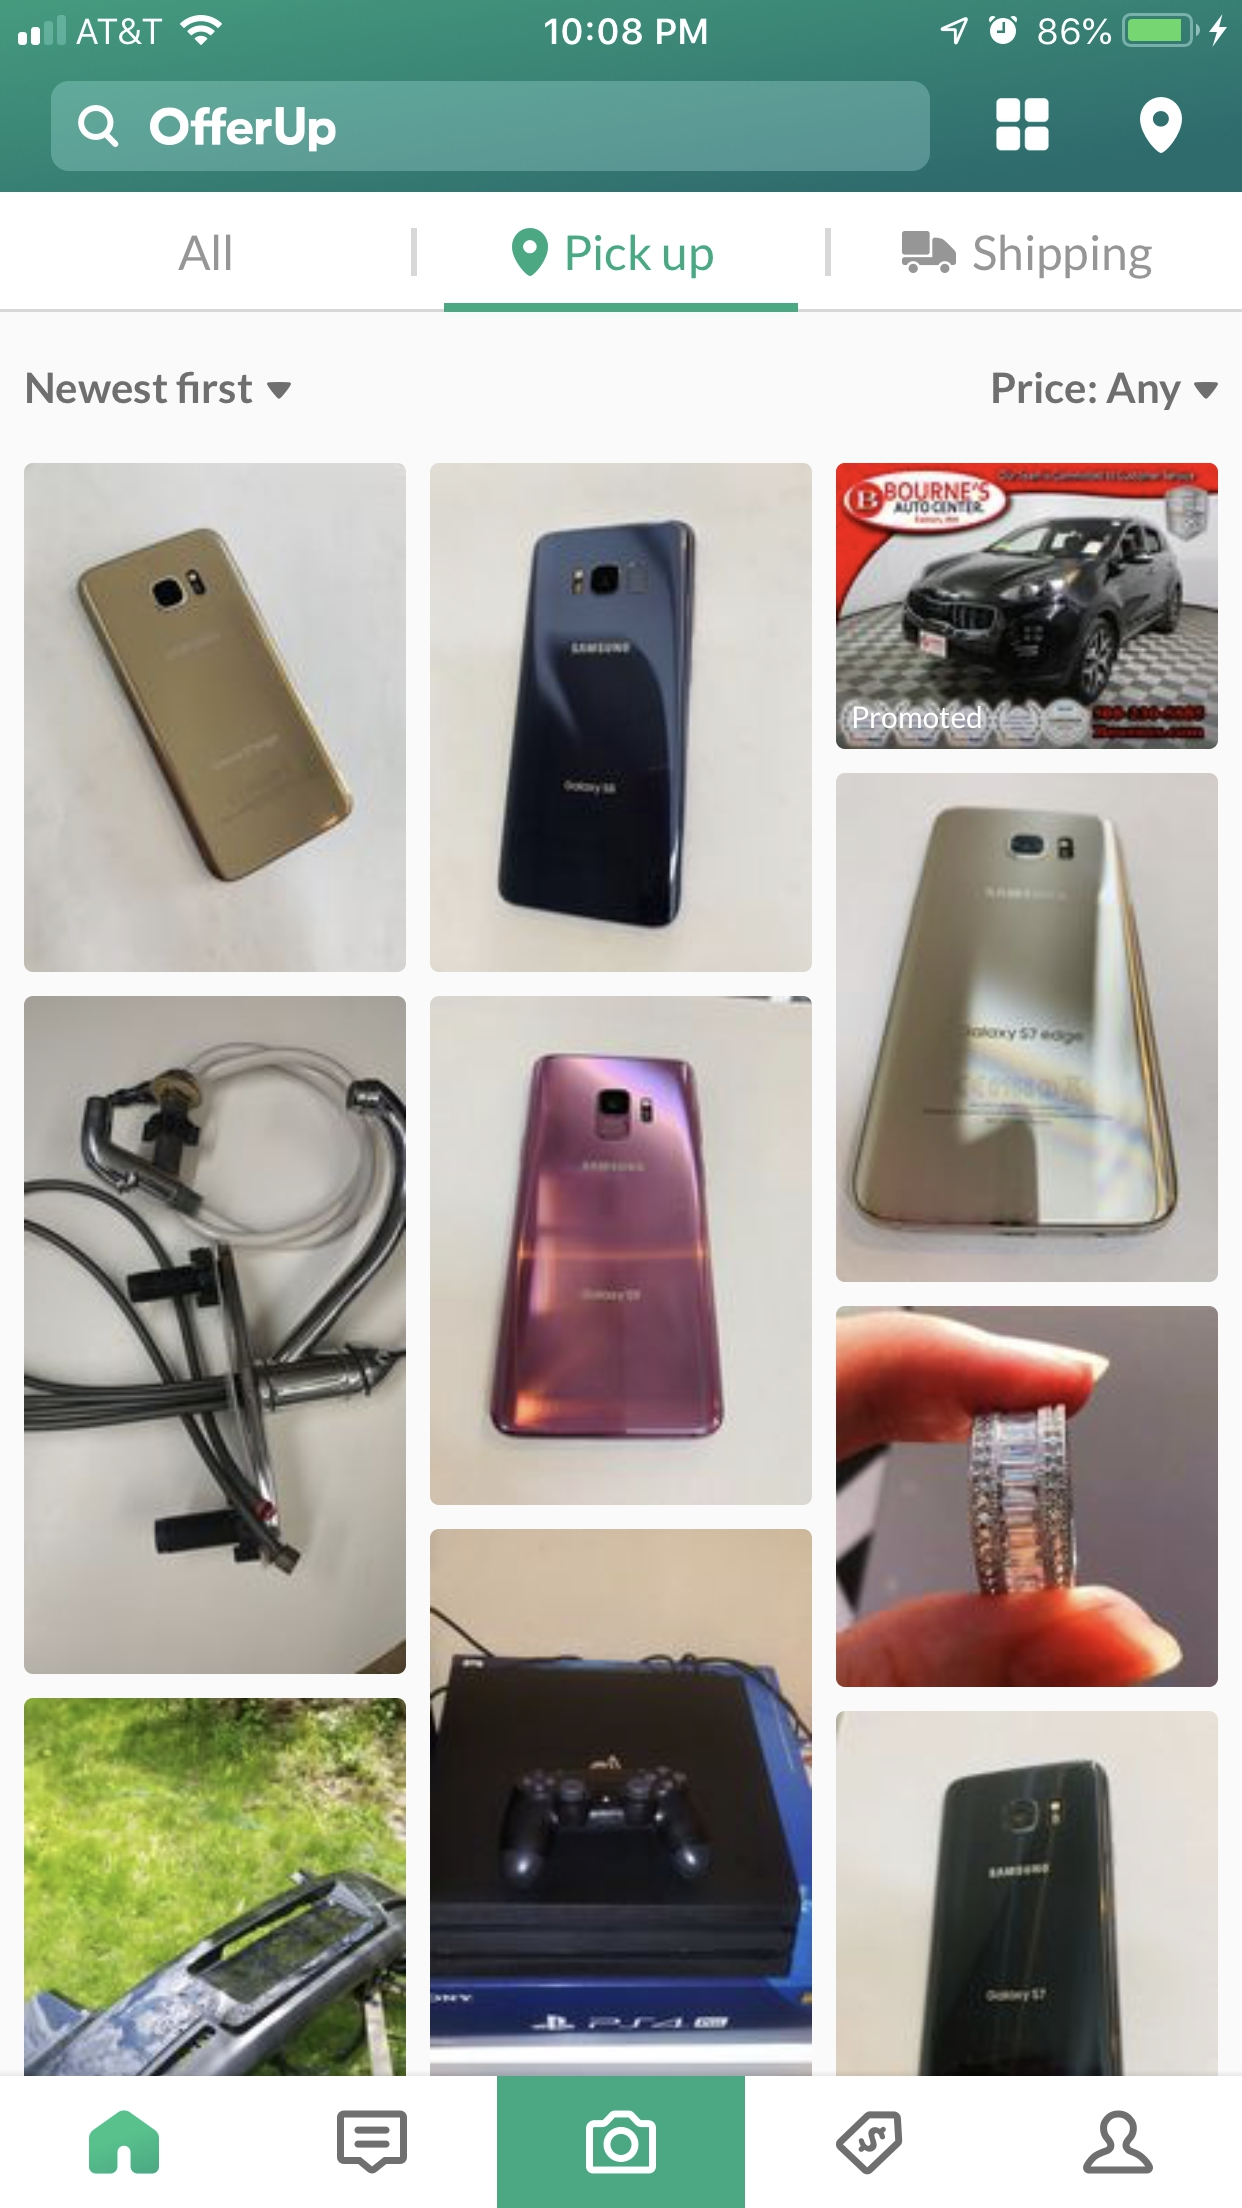EditText: (52, 80, 931, 173)
Icon: (497, 2076, 746, 2208), (1081, 2109, 1154, 2175), (337, 2109, 409, 2175), (89, 2109, 161, 2175), (836, 2109, 904, 2176), (995, 99, 1049, 153), (1139, 97, 1183, 155), (77, 105, 120, 149), (513, 229, 550, 278), (267, 382, 293, 400), (1193, 384, 1219, 400)
Image: (24, 996, 406, 1676), (431, 1529, 813, 2076), (836, 773, 1219, 1283), (431, 463, 813, 974), (24, 463, 406, 974), (431, 996, 813, 1506), (836, 1306, 1216, 1688), (24, 1697, 406, 2076), (836, 1711, 1219, 2076), (836, 464, 1218, 751), (901, 231, 957, 274)
Text: (150, 108, 337, 153), (974, 234, 1153, 281), (27, 372, 253, 406), (992, 372, 1181, 412), (566, 235, 714, 281), (177, 234, 232, 271)
UpperTaskBar: (2, 2, 1242, 49)
